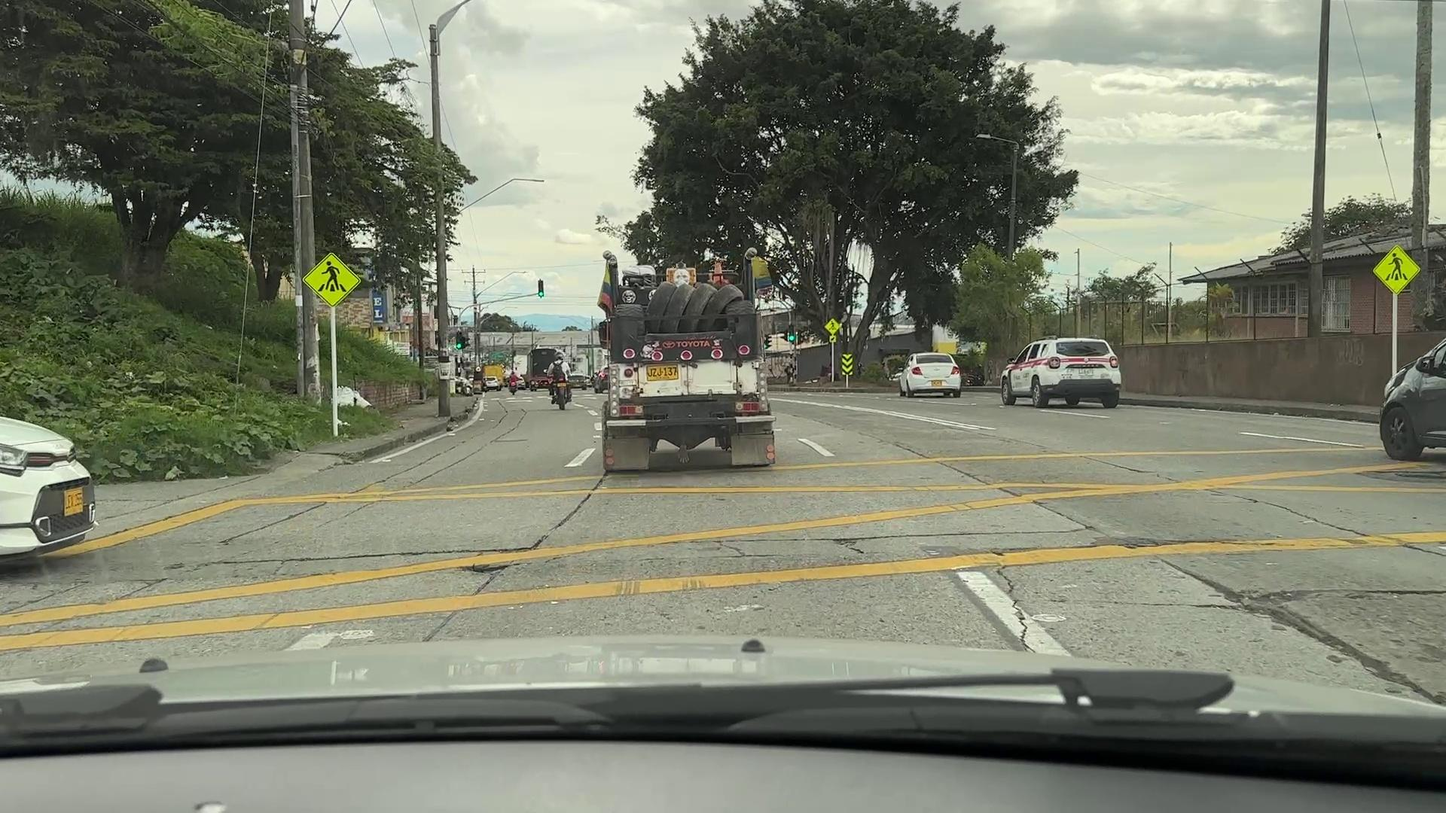bache: (1168, 565, 1413, 687), (833, 537, 880, 554), (458, 563, 524, 574)
grieta: (214, 535, 550, 564), (993, 552, 1036, 654)
